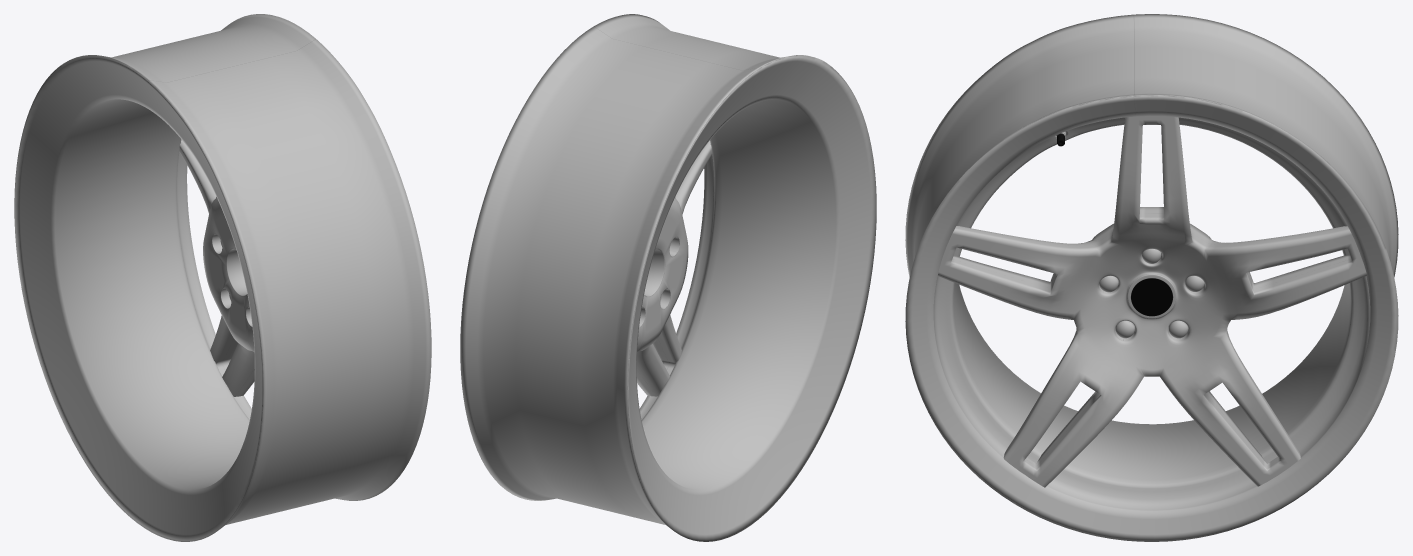
The picture shows the model from 3 angles, left to right: view 1: azimuth 30°, elevation 25°; view 2: azimuth 150°, elevation 25°; view 3: azimuth 270°, elevation 25°; orthographic projection.
Parts seen in each view (by area): view 1: 2; view 2: 2; view 3: 2.
Part boxes in pixels (box(x1,y1,x2,y2)): 2: box(14, 14, 431, 541); 2: box(460, 14, 876, 541); 2: box(905, 14, 1398, 541).
Size of the model in its own units: 0.3009 by 0.7724 by 0.7724.
Materials: 1 (1 with a texture image).
